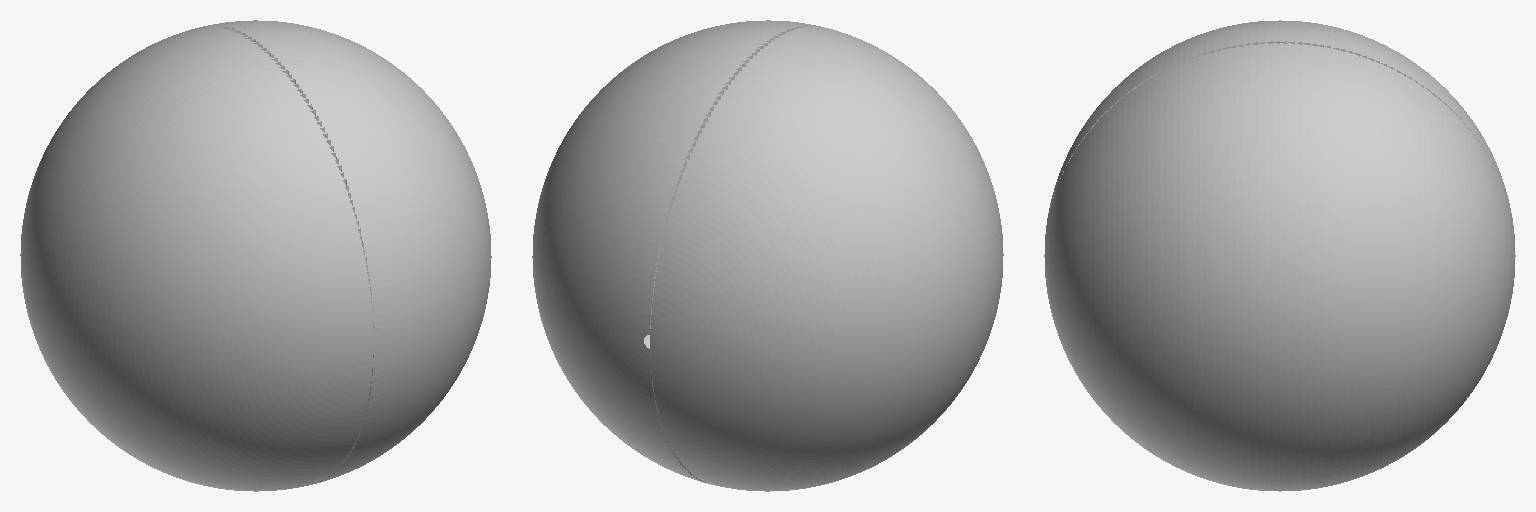
The model's file is polygon-200-2021-05-04T14:36:45.570Z.obj.
3 views of the same model, side by side, from view 1: azimuth 30°, elevation 25°; view 2: azimuth 150°, elevation 25°; view 3: azimuth 270°, elevation 25° (orthographic).
Size of the model in its own units: 2 by 2 by 2.